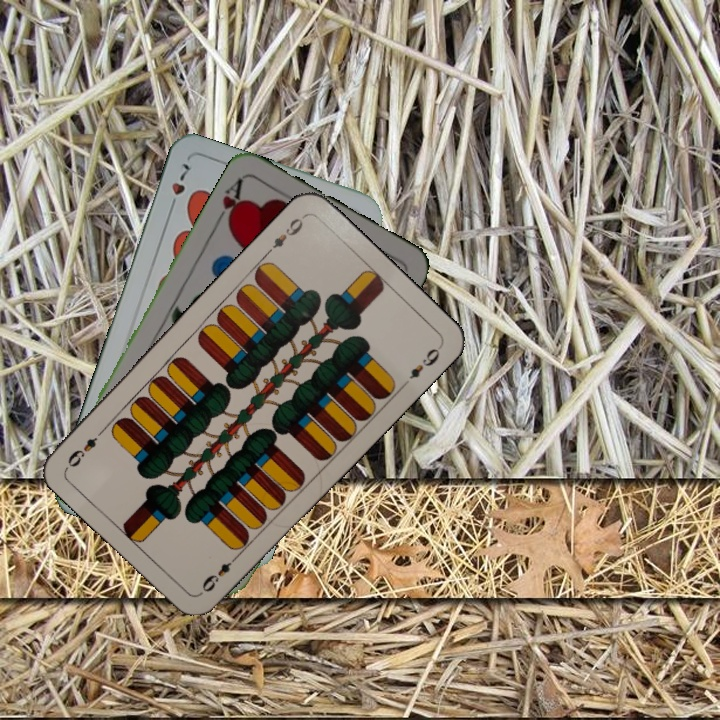E9: (196, 550, 242, 597), (262, 212, 308, 258)
H7: (165, 159, 192, 214)
HA: (210, 174, 247, 230)
